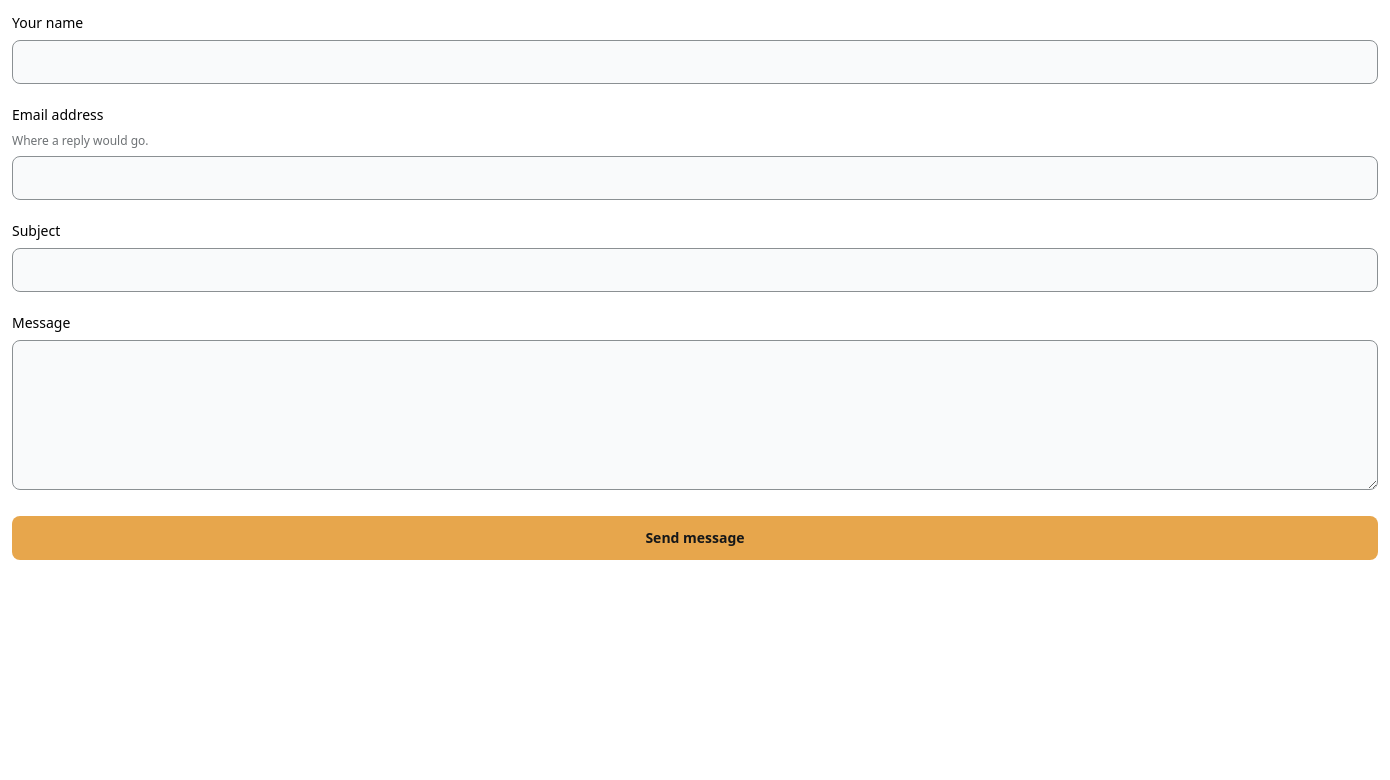
Test: ContactForm › keeps what was typed when the send fails
The width and height of the screenshot is (1390, 780).
In the field labelled "Your name": (695, 62) [12, 40, 1378, 84], type "Nabila Rahman"
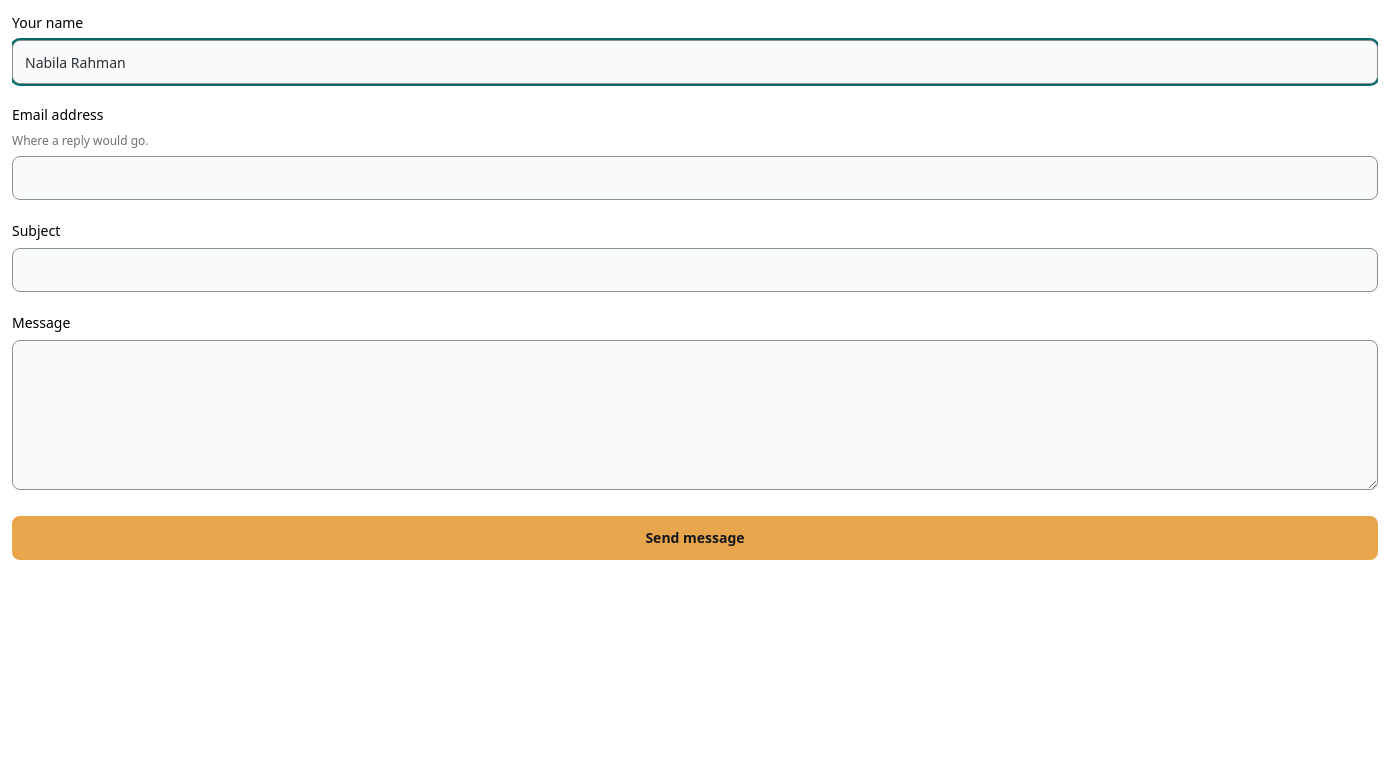
In the field labelled "Email address": (695, 178) [12, 156, 1378, 200], type "nabila@example.test"
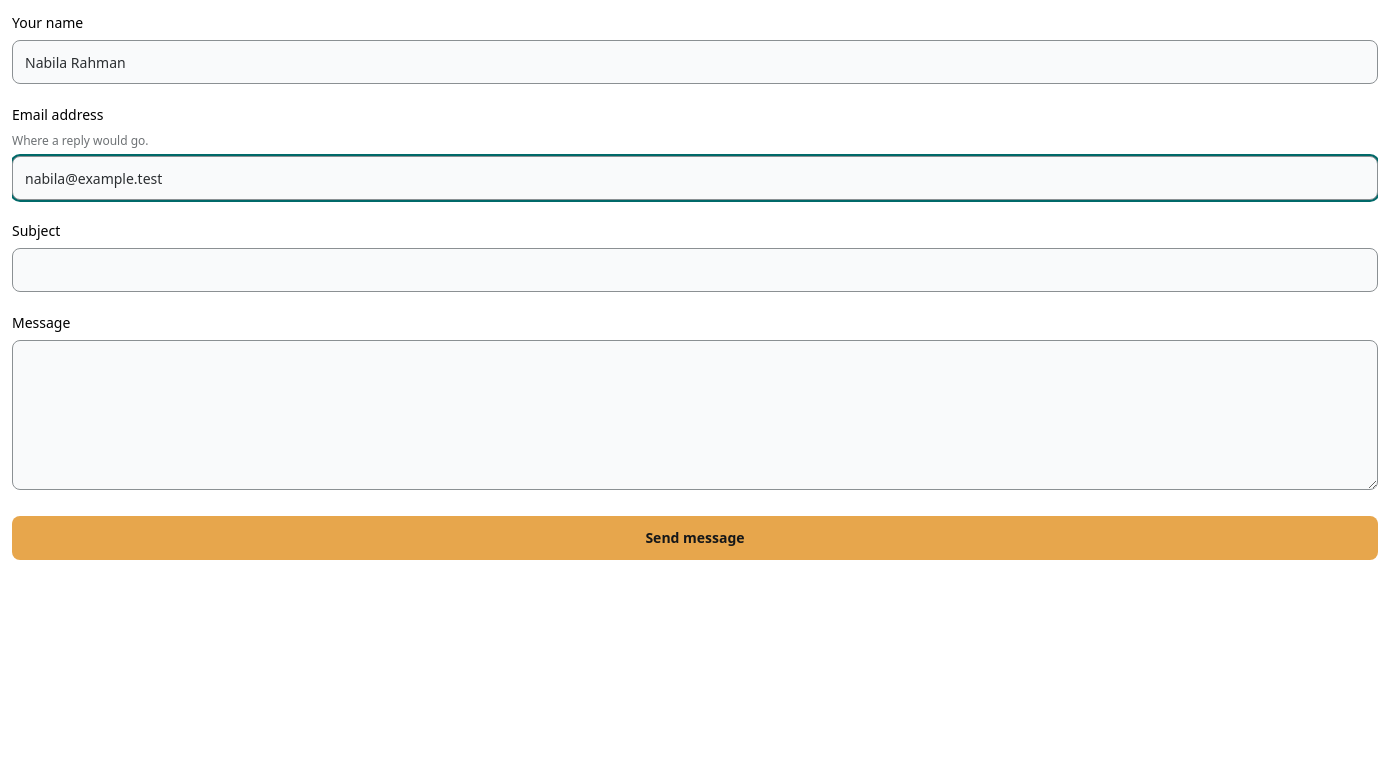
In the field labelled "Subject": (695, 270) [12, 248, 1378, 292], type "Driver took a longer route"
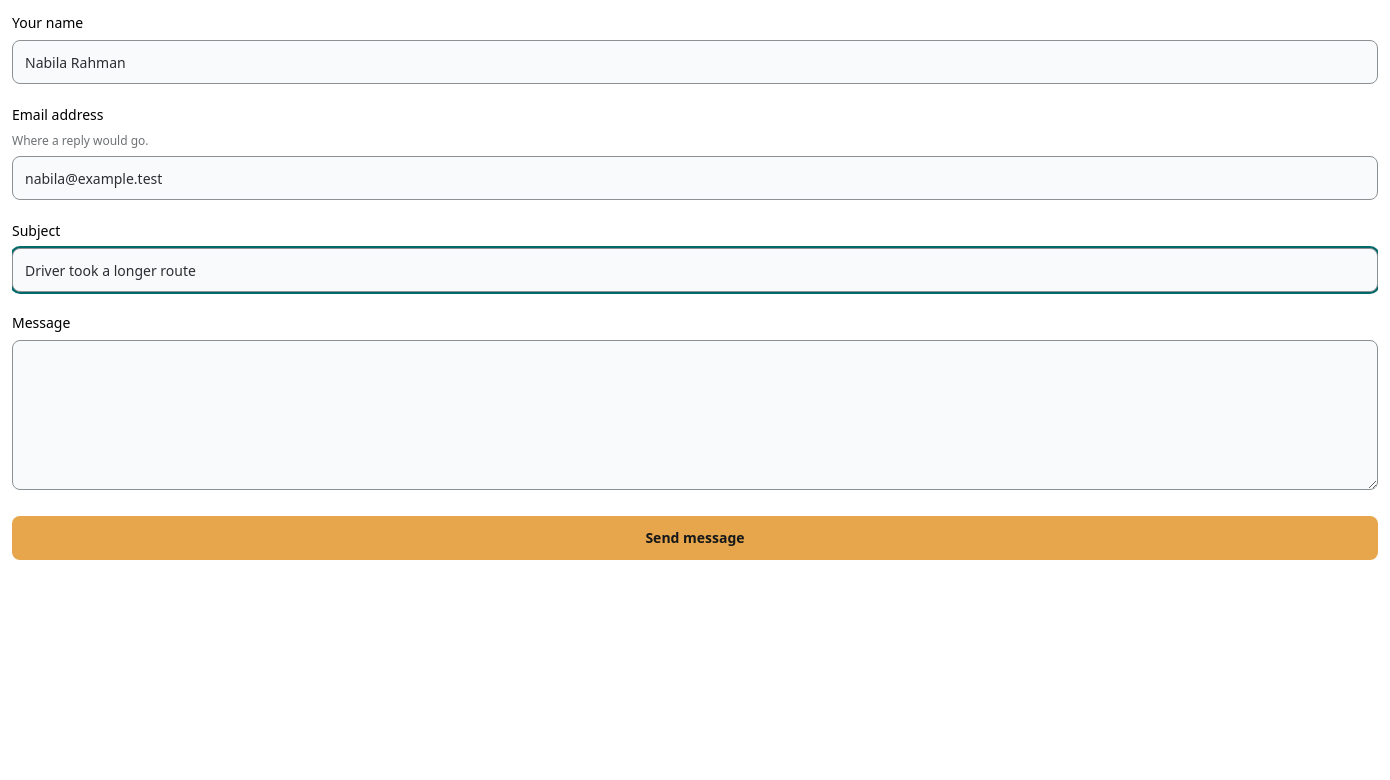
In the text box labelled "Message": (695, 415) [12, 340, 1378, 490], type "My ride last night went the wrong way and cost more than quoted."
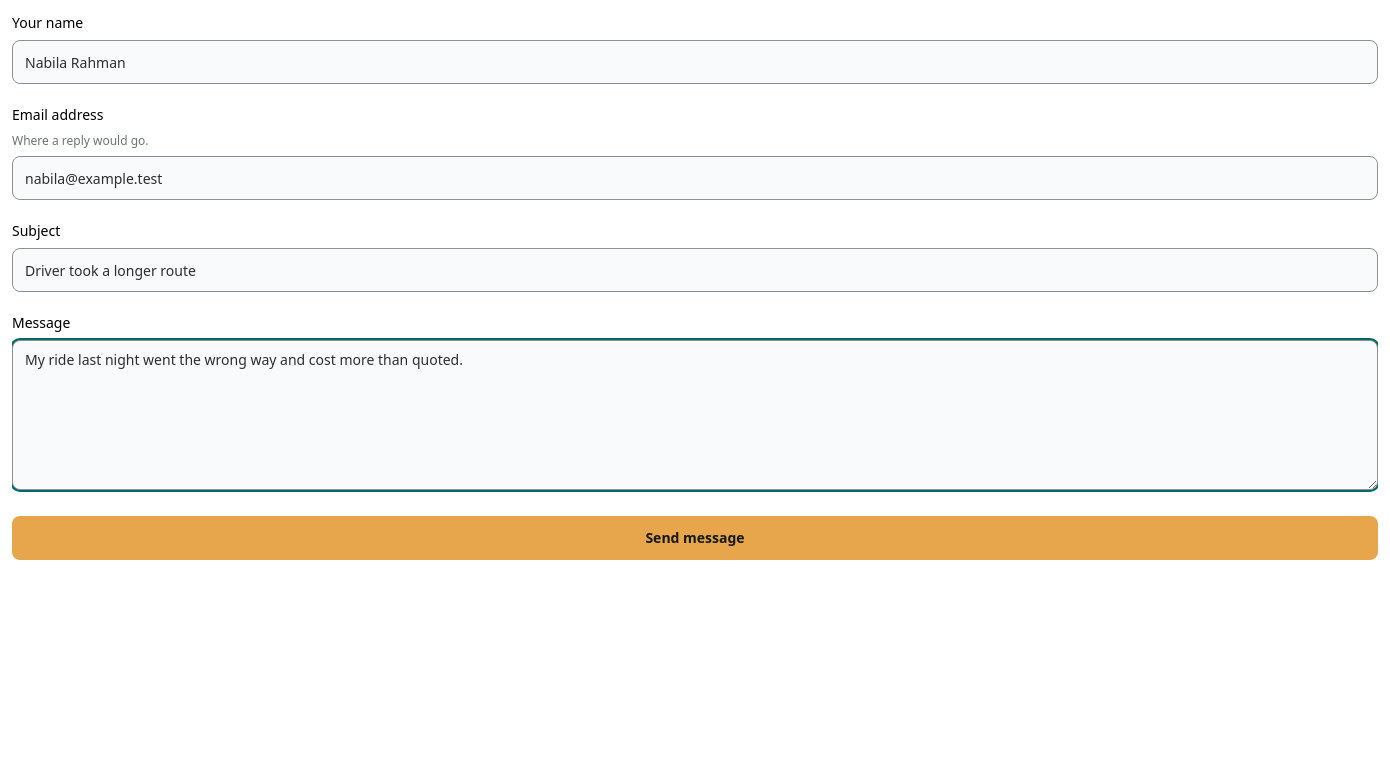
Click the button "Send message": (695, 538) [12, 516, 1378, 560]
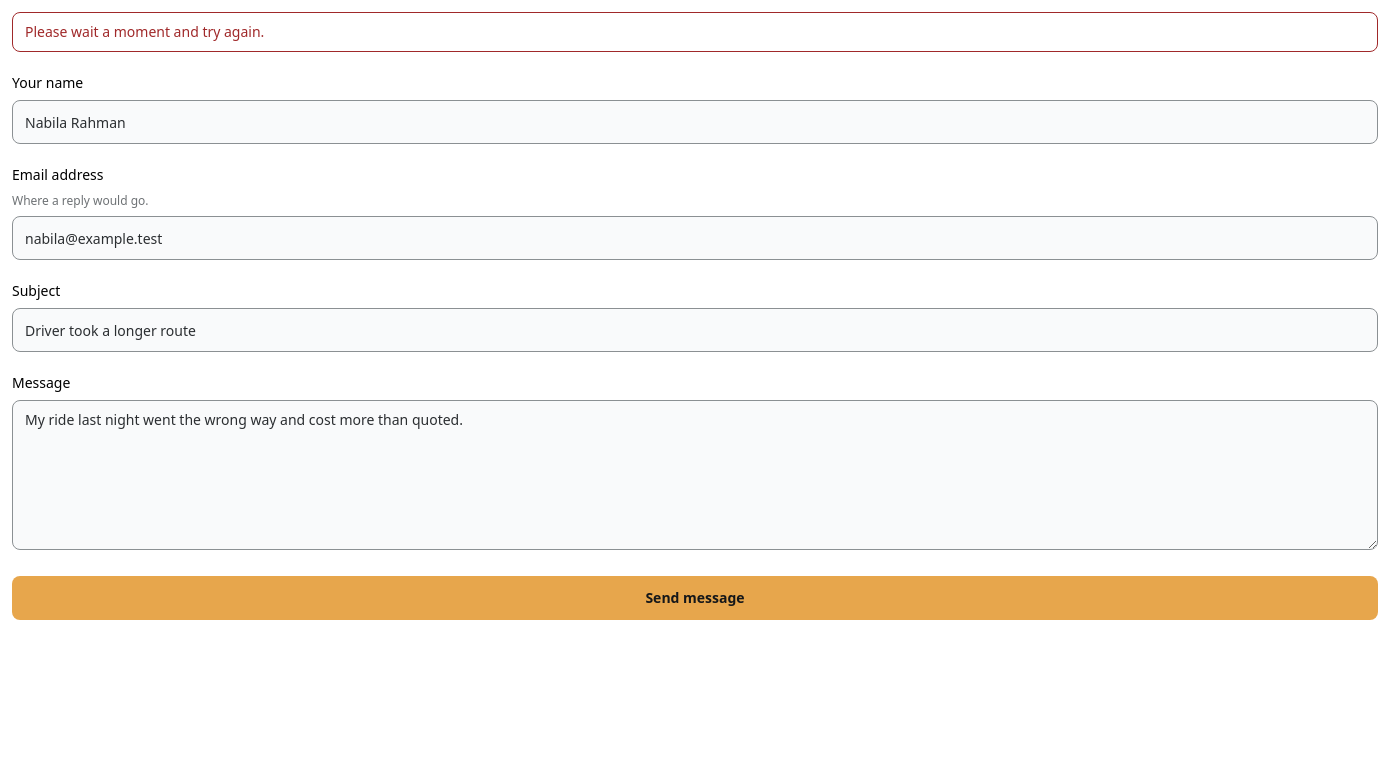
Now the message shows "wait a moment", box [25, 22, 264, 41]
